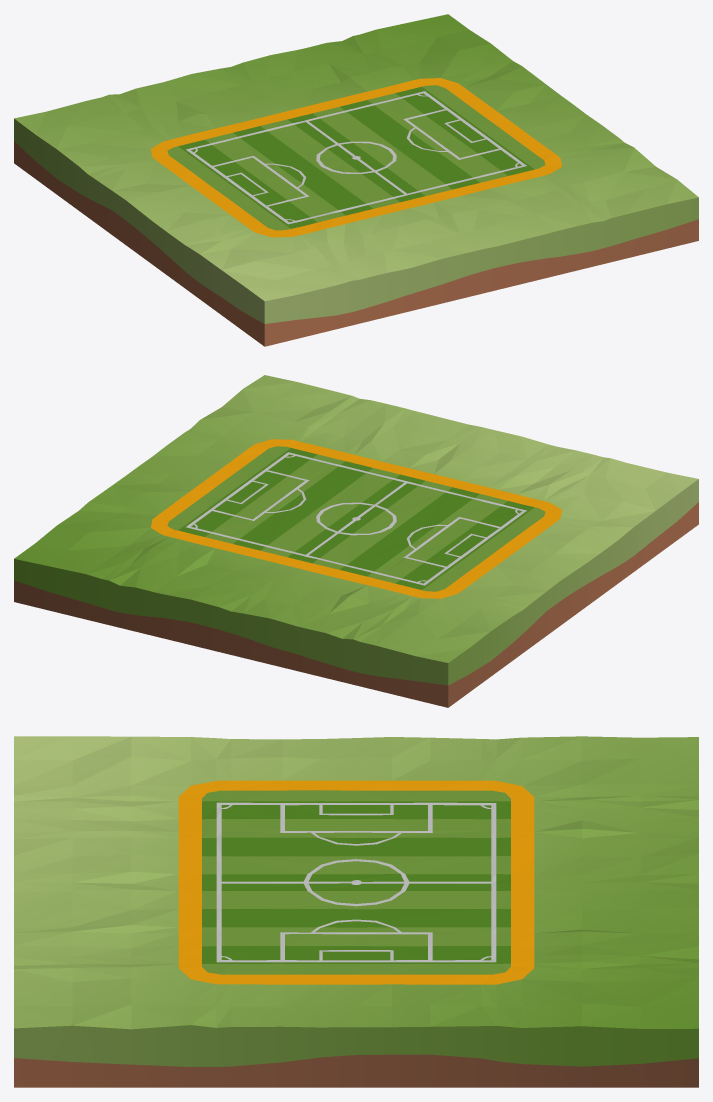
Rendered from land soccer field.fbx.
3 views of the same model, one above another, from view 1: azimuth 30°, elevation 25°; view 2: azimuth 150°, elevation 25°; view 3: azimuth 270°, elevation 25° (orthographic). The views are drawn at different scales.
Parts seen in each view (by area): view 1: land soccer field; view 2: land soccer field; view 3: land soccer field.
Boxes of the visible parts, x1=… form: land soccer field: x1=14, y1=14, x2=698, y2=346; land soccer field: x1=14, y1=375, x2=698, y2=707; land soccer field: x1=14, y1=736, x2=698, y2=1087.
Bounding box in the file's own units: 4500 × 461 × 4500.
